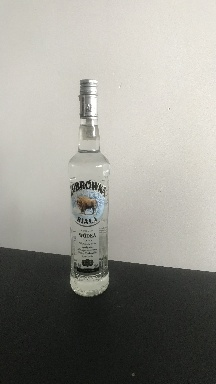butelka: (66, 74, 111, 299)
